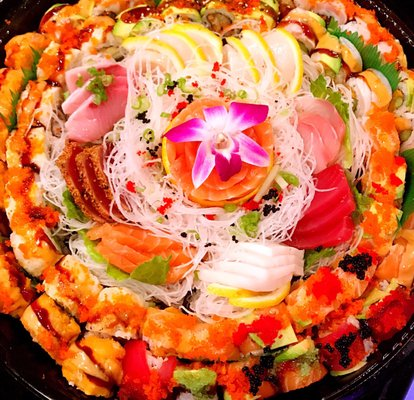sandwich: (1, 0, 410, 394)
